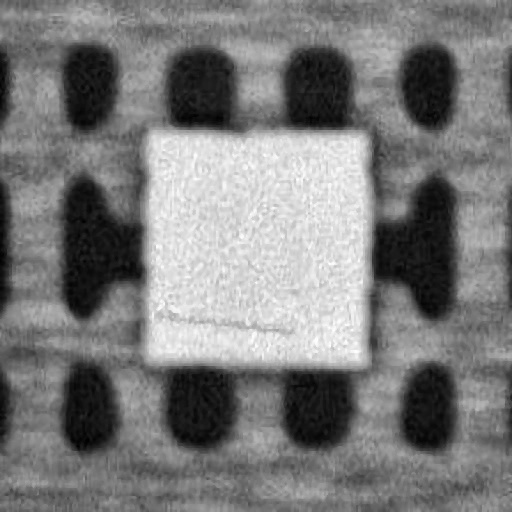DIE_CRACK: (233, 209, 438, 220)
